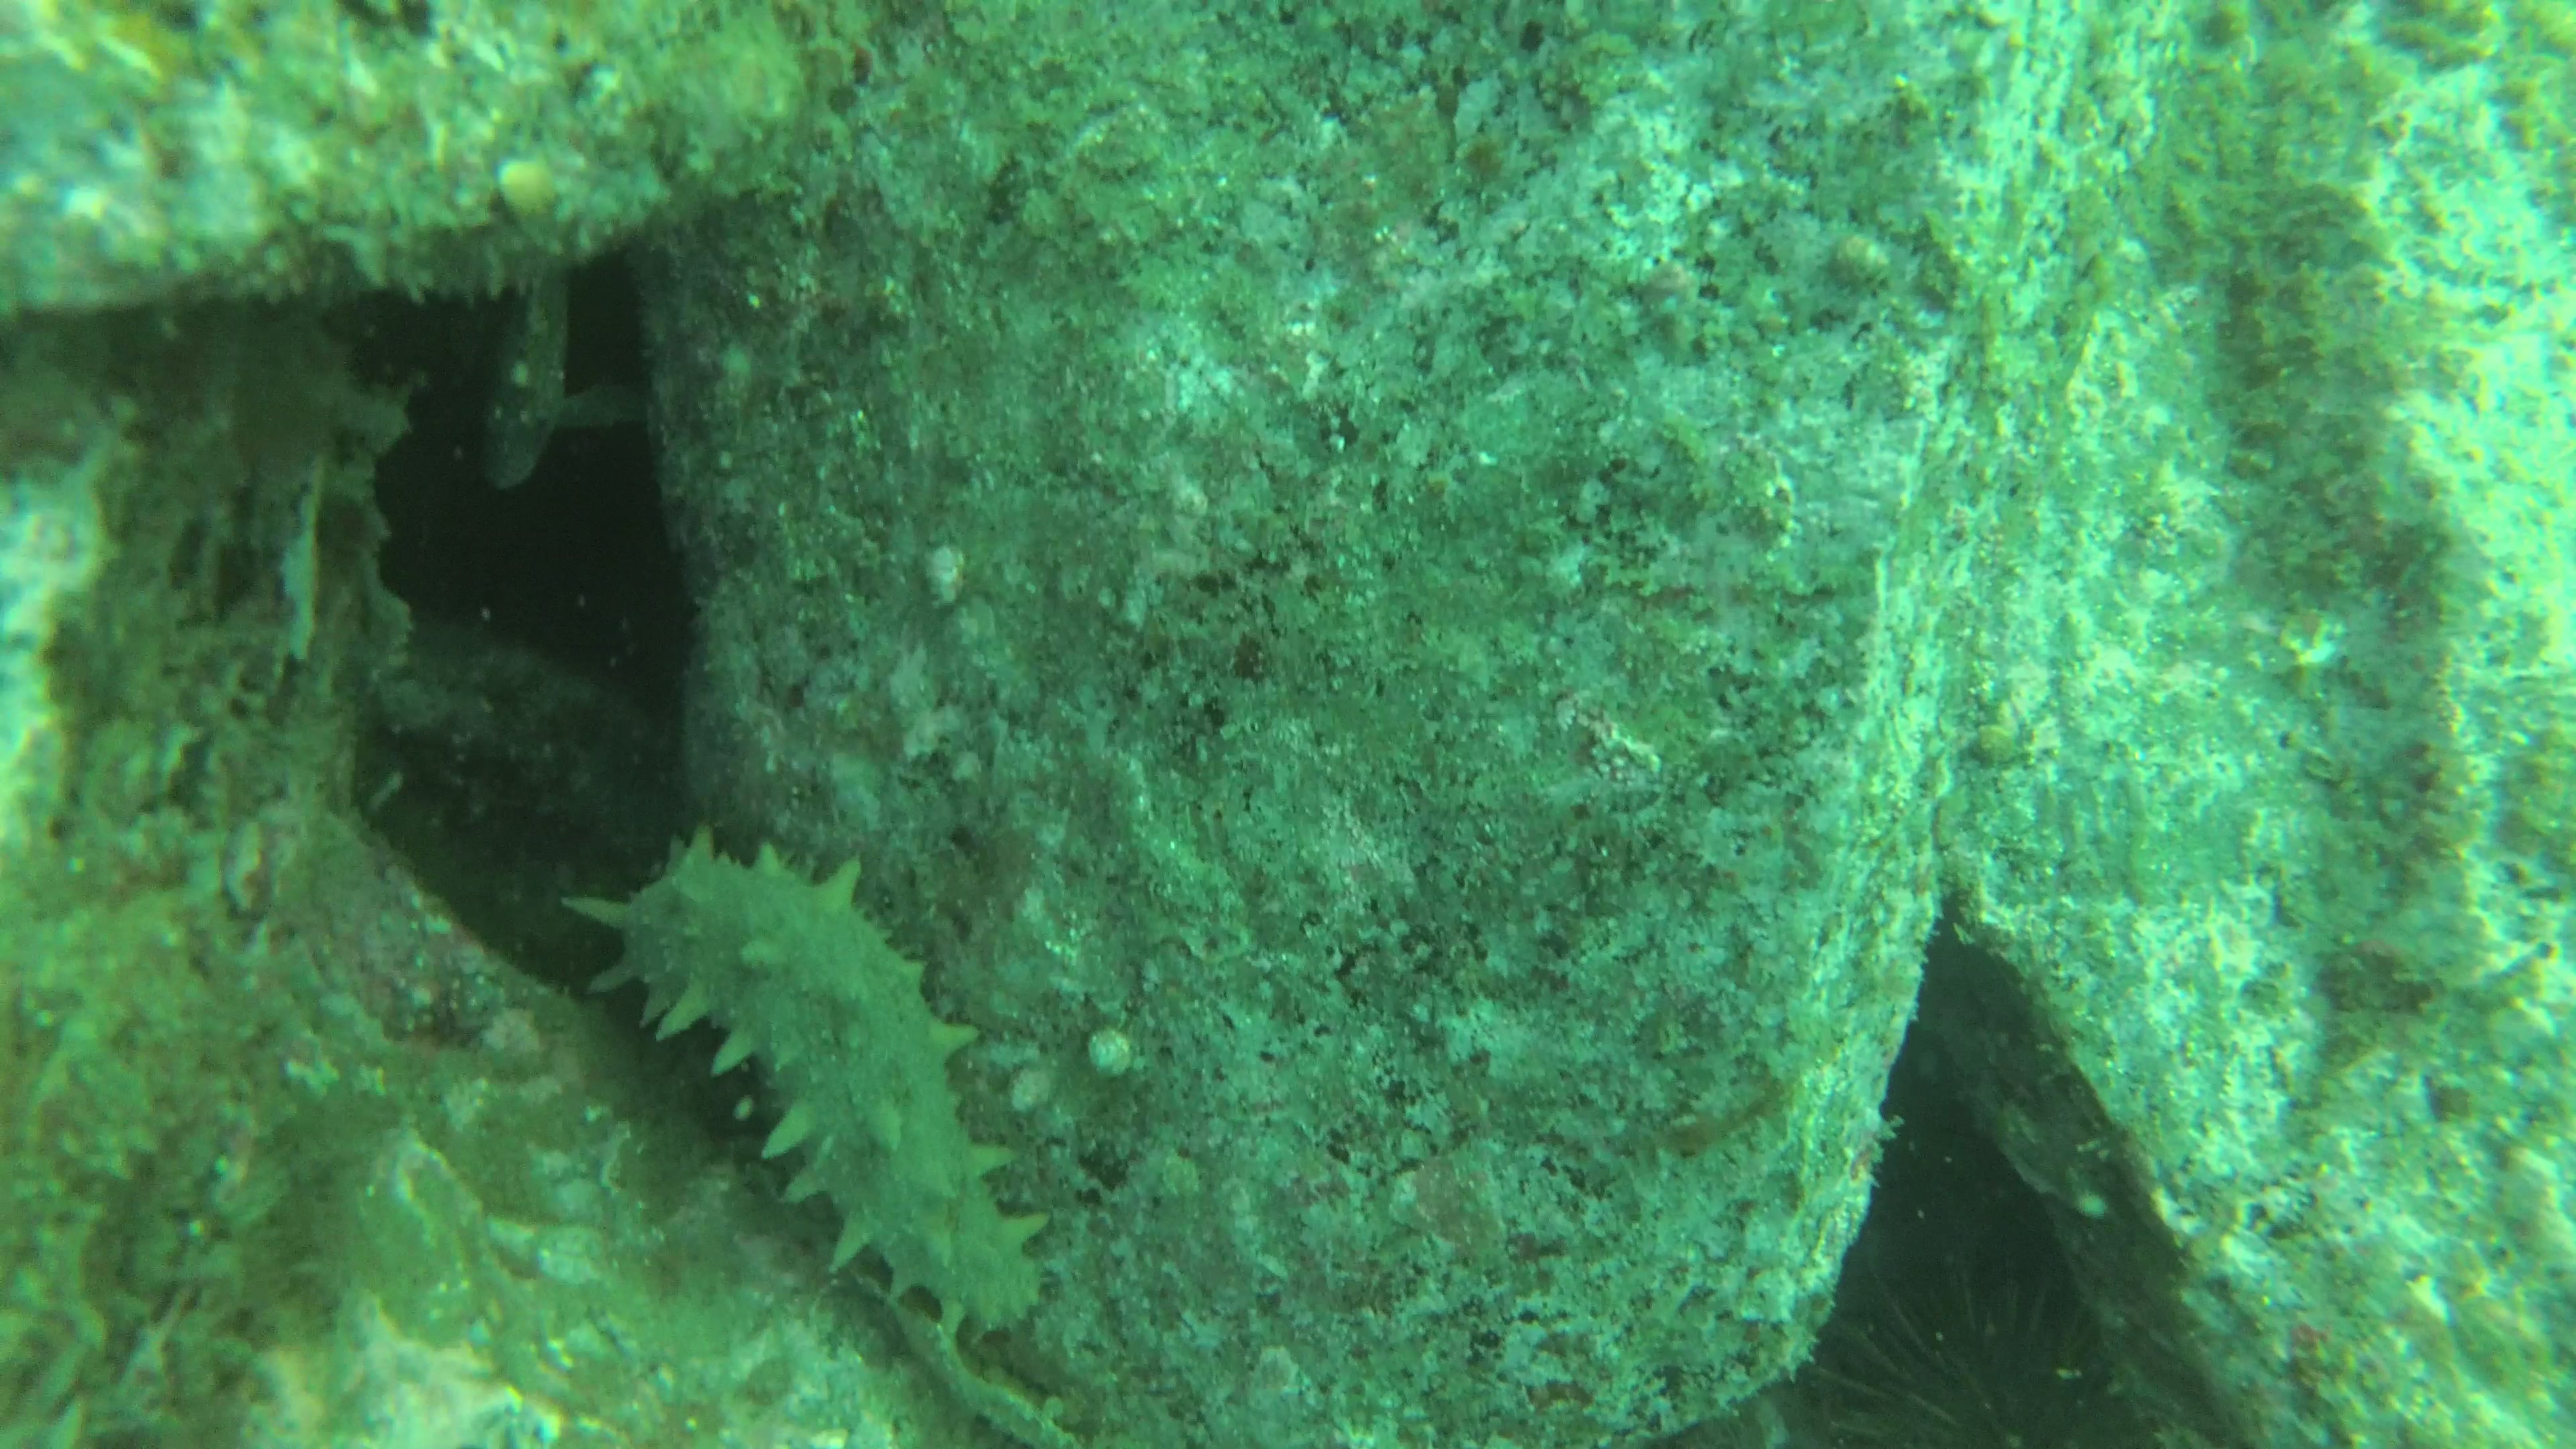echinus: (1801, 1263, 2162, 1449)
holothurian: (547, 821, 1062, 1346)
